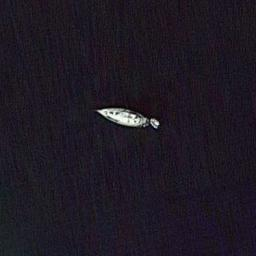boat: (92, 106, 149, 130)
